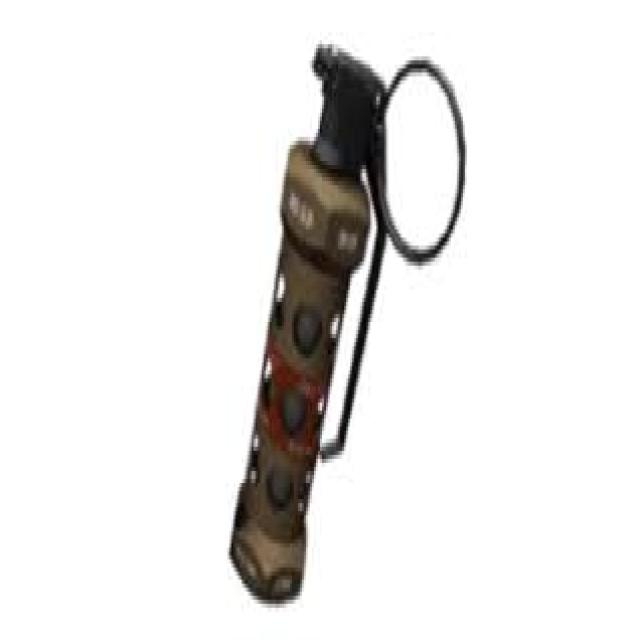grenade: (221, 32, 472, 620)
